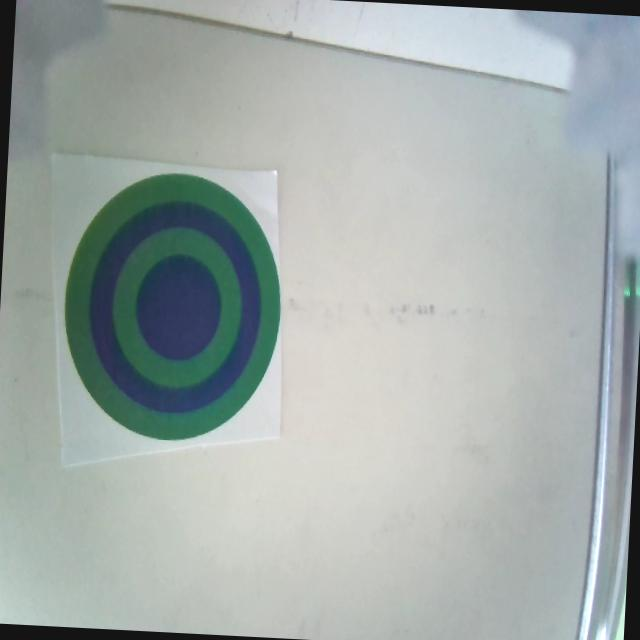cogn: (58, 167, 288, 448)
